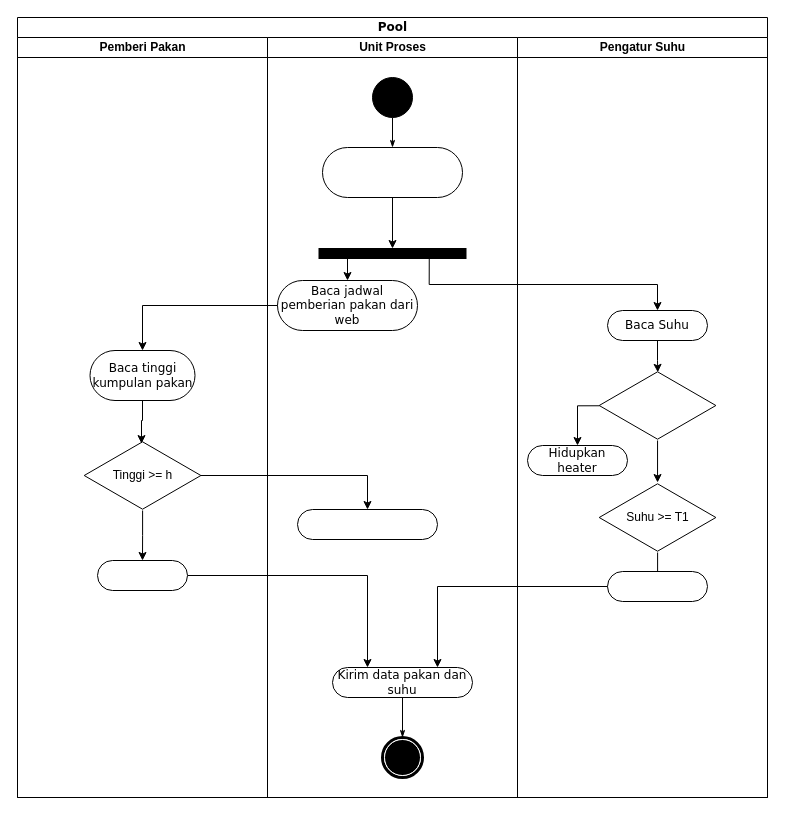
This 785x815 diagram has some shape labels left out. The shapes that lost their labels are listed below. From the top down, each one's centre as x and y in pixels, then its label:
the point at 392,172: Baca data perintah dari web
the point at 657,405: Suhu <= T0
the point at 367,524: Kirim peringatan pakan
the point at 142,575: Berikan pakan
the point at 657,586: Hidupkan fan
